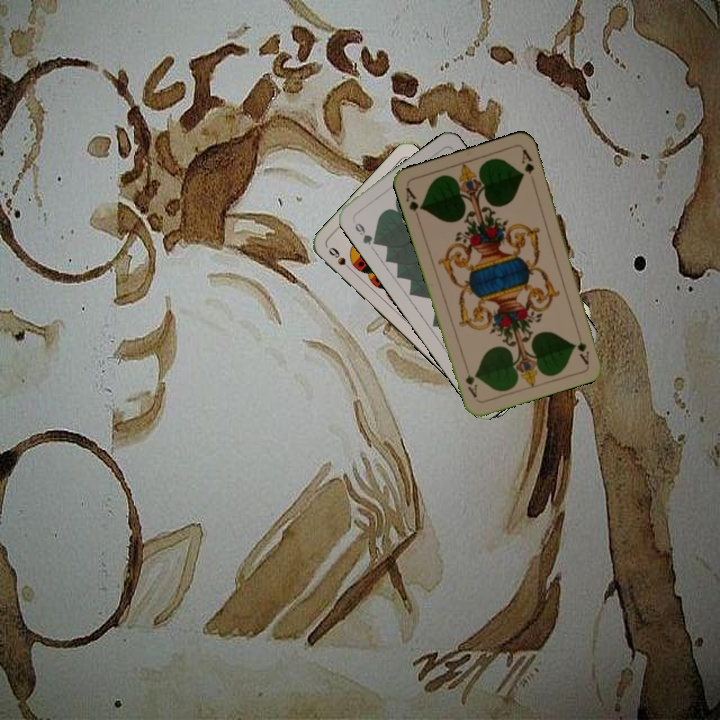G9: (348, 215, 381, 248)
GA: (402, 183, 425, 222), (572, 326, 592, 367)
S9: (324, 243, 356, 275)
